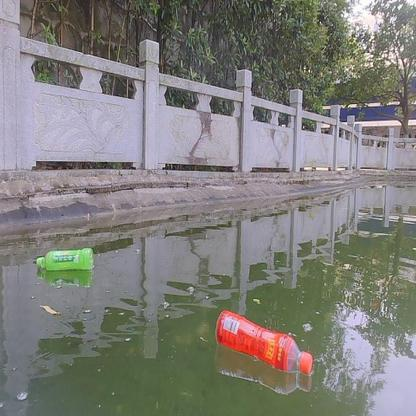plastic bottle: (216, 309, 313, 375), (36, 247, 94, 271)
